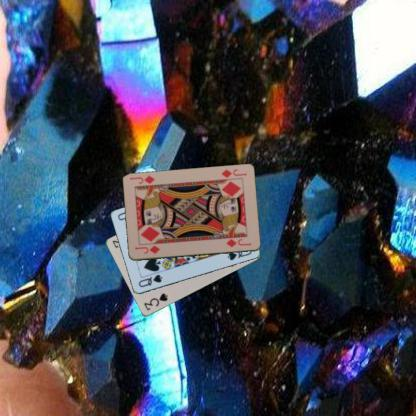3s: (142, 291, 169, 312)
Jd: (132, 244, 162, 256), (218, 167, 248, 179)
Qs: (136, 272, 163, 289)
